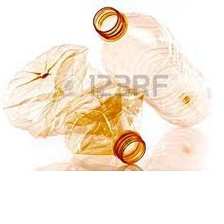bottle: (0, 40, 148, 173), (86, 0, 217, 130)
